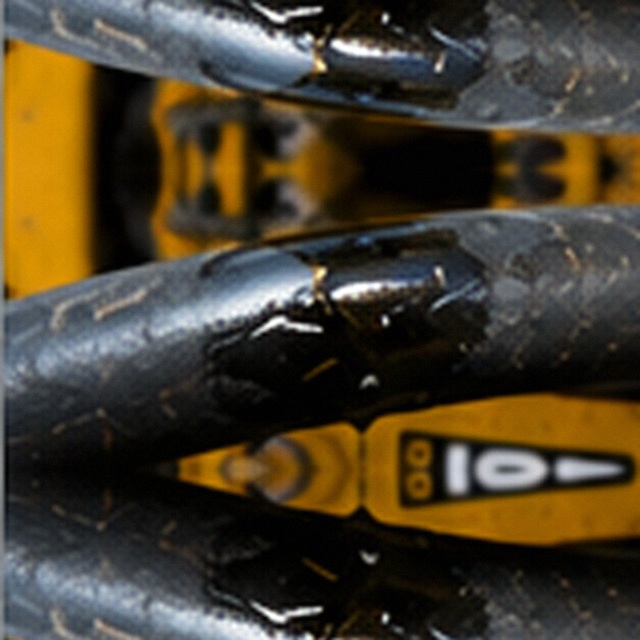hydraulic_oil_leak: (155, 179, 457, 430)
